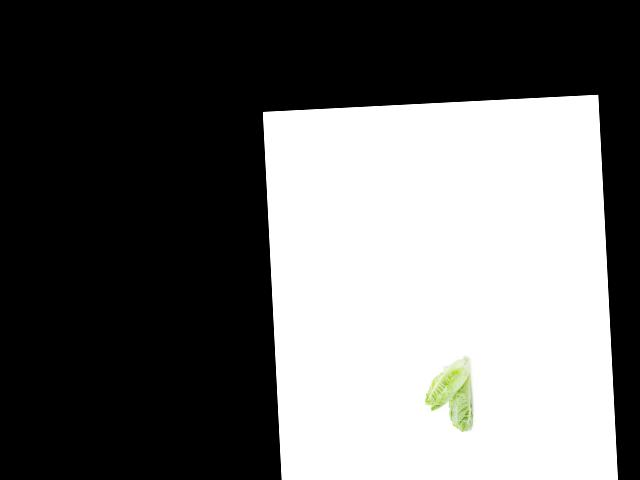lettuce: (445, 371, 478, 437)
